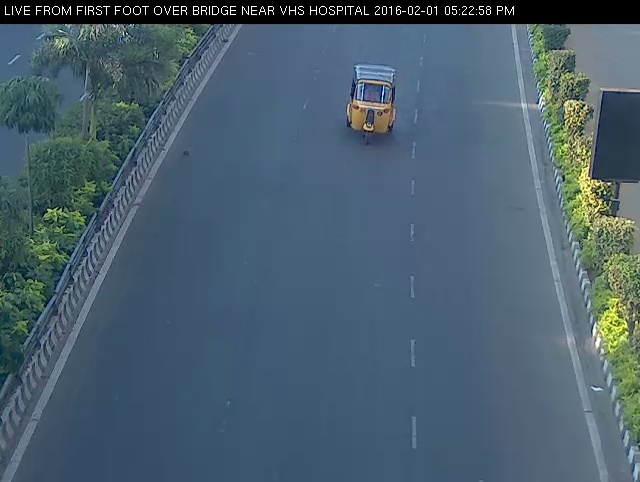Auto: (336, 55, 406, 153)
